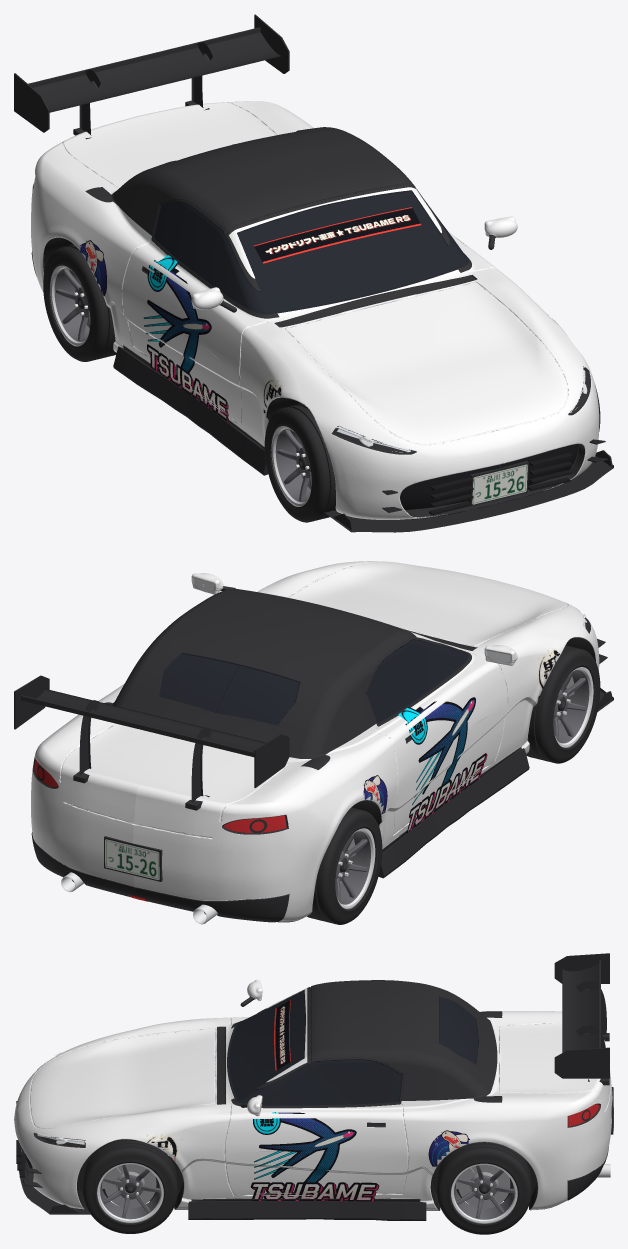
The model's file is tsubame.fbx.
3 views of the same model, one above another, from view 1: azimuth 30°, elevation 25°; view 2: azimuth 150°, elevation 25°; view 3: azimuth 270°, elevation 25° (orthographic). The views are drawn at different scales.
Parts seen in each view (by area): view 1: Body, Wheel_FR, Wheel_RR; view 2: Body, Wheel_FR, Wheel_RR; view 3: Body, Wheel_FL, Wheel_RL.
Part boxes in pixels (x1,y1,x2,y2): Body: (14, 14, 613, 532); Wheel_FR: (264, 403, 335, 522); Wheel_RR: (43, 244, 116, 361); Body: (14, 561, 613, 924); Wheel_FR: (526, 645, 600, 763); Wheel_RR: (307, 807, 382, 924); Body: (14, 953, 613, 1220); Wheel_FL: (83, 1139, 177, 1233); Wheel_RL: (437, 1142, 531, 1234).
Bounding box in the file's own units: 1.96 × 1.29 × 3.92.
Materials: 14 (2 with a texture image).
